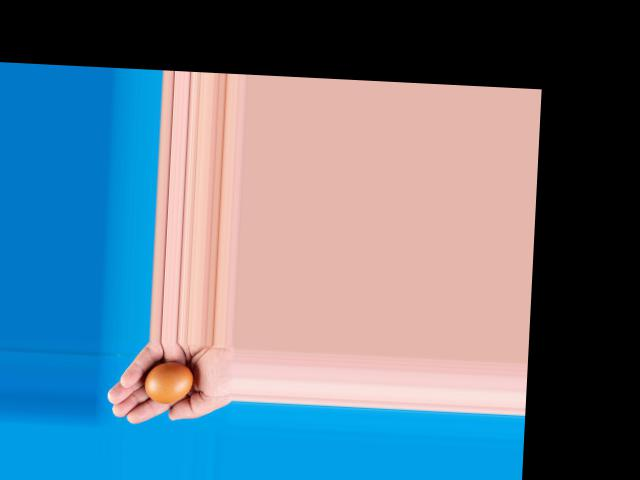egg: (142, 361, 193, 404)
